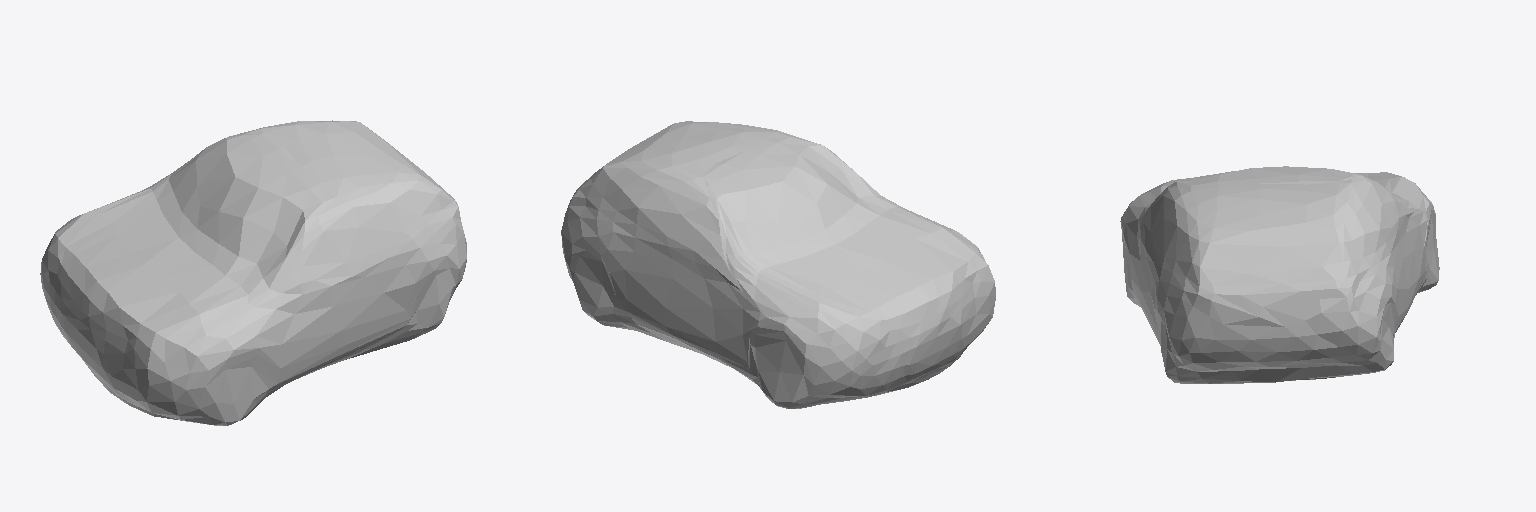
Rendered from video3_174.obj.
3 views of the same model, side by side, from view 1: azimuth 30°, elevation 25°; view 2: azimuth 150°, elevation 25°; view 3: azimuth 270°, elevation 25° (orthographic).
Size of the model in its own units: 1 by 0.51 by 0.786.